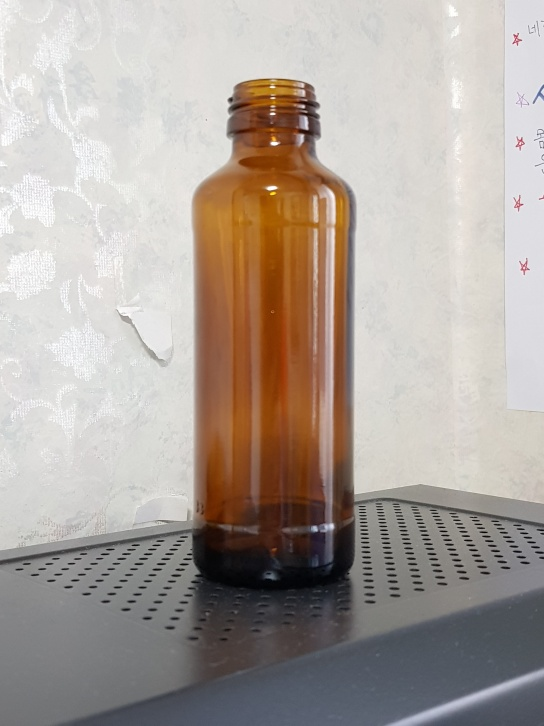Glass: (188, 78, 361, 589)
